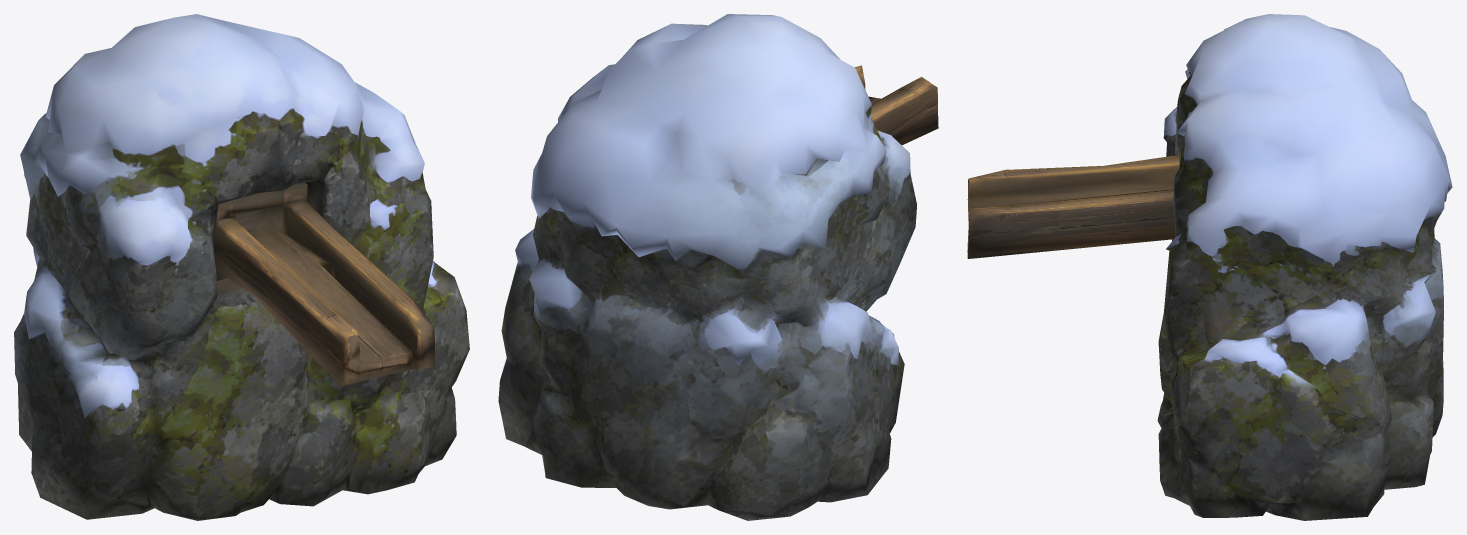
The model's file is cave-rock-mobile-v01.glb.
The picture shows the model from 3 angles, left to right: view 1: azimuth 30°, elevation 25°; view 2: azimuth 150°, elevation 25°; view 3: azimuth 270°, elevation 25°; orthographic projection. The views are drawn at different scales.
Parts seen in each view (by area): view 1: tripo_node_311e8742-44b8-495b-b796-065319840d42; view 2: tripo_node_311e8742-44b8-495b-b796-065319840d42; view 3: tripo_node_311e8742-44b8-495b-b796-065319840d42.
Part boxes in pixels (x1,y1,x2,y2): tripo_node_311e8742-44b8-495b-b796-065319840d42: [14, 14, 469, 520]; tripo_node_311e8742-44b8-495b-b796-065319840d42: [498, 14, 938, 520]; tripo_node_311e8742-44b8-495b-b796-065319840d42: [967, 14, 1452, 520].
Size of the model in its own units: 0.7732 by 0.8994 by 0.9788.
1 material, 1 textured.
